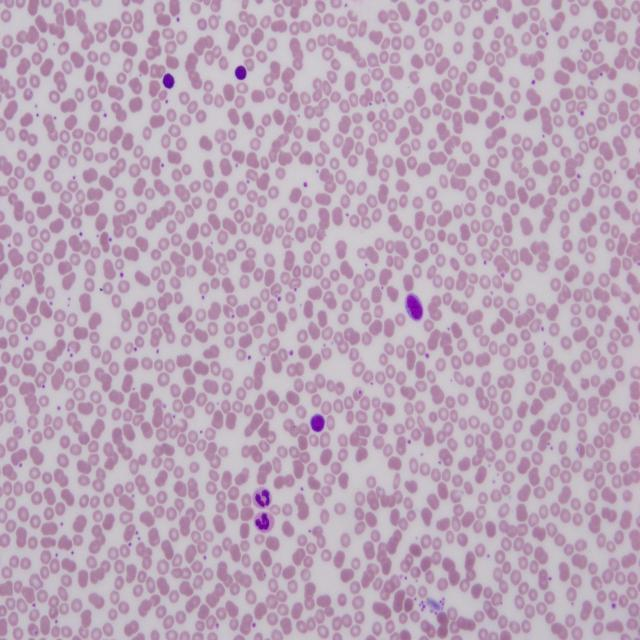cell: (254, 512, 274, 532), (254, 488, 271, 508)
